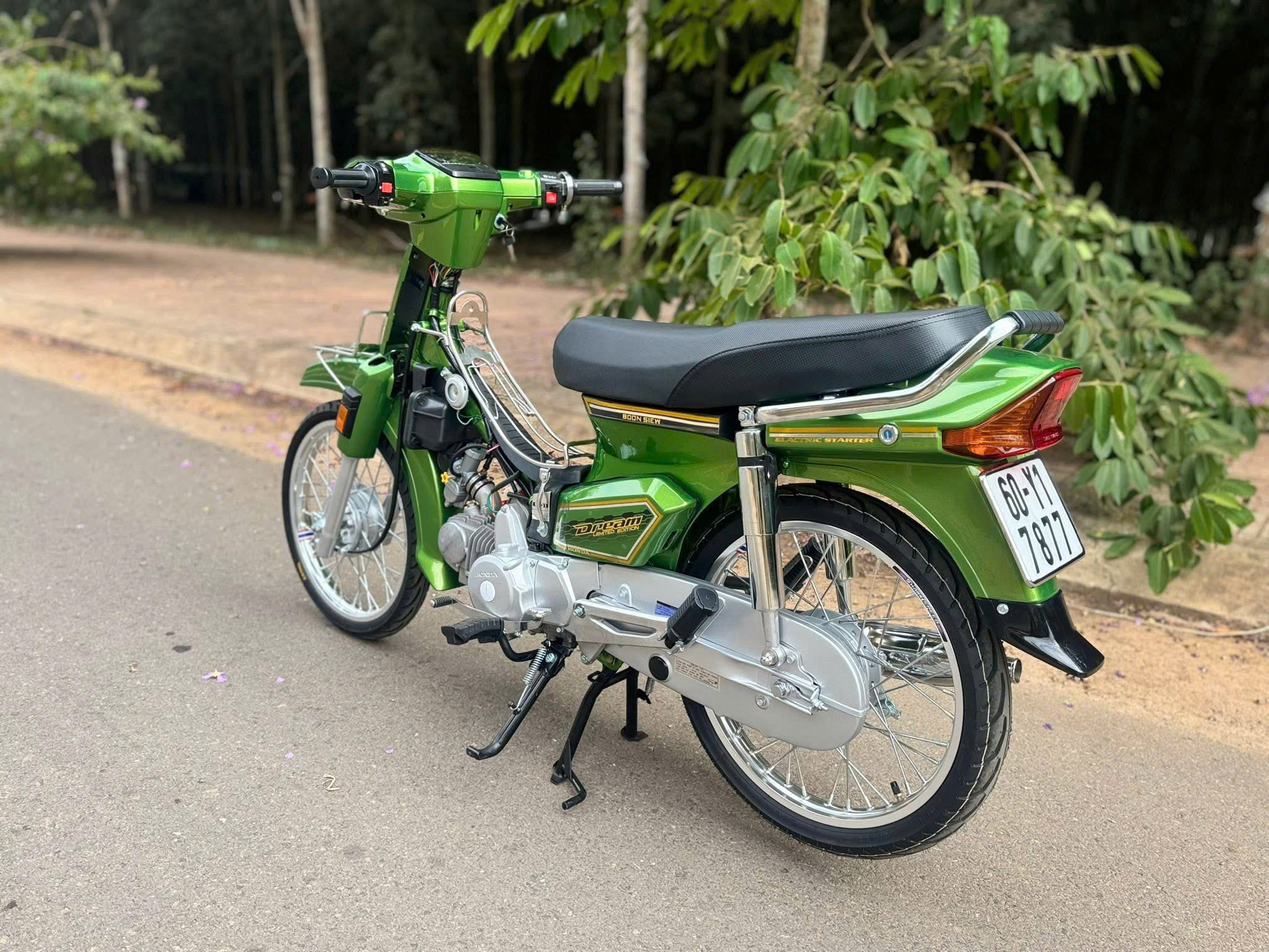Bien-so: (981, 457, 1092, 591)
